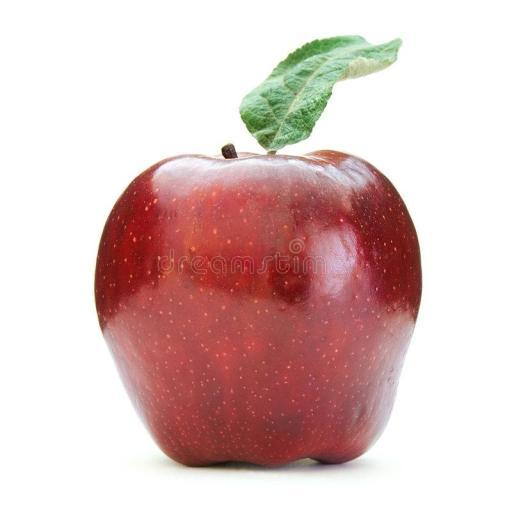apple: (96, 151, 421, 465)
